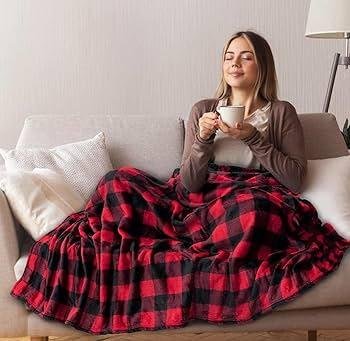blanket: (9, 163, 350, 336)
sweater: (179, 97, 310, 196)
